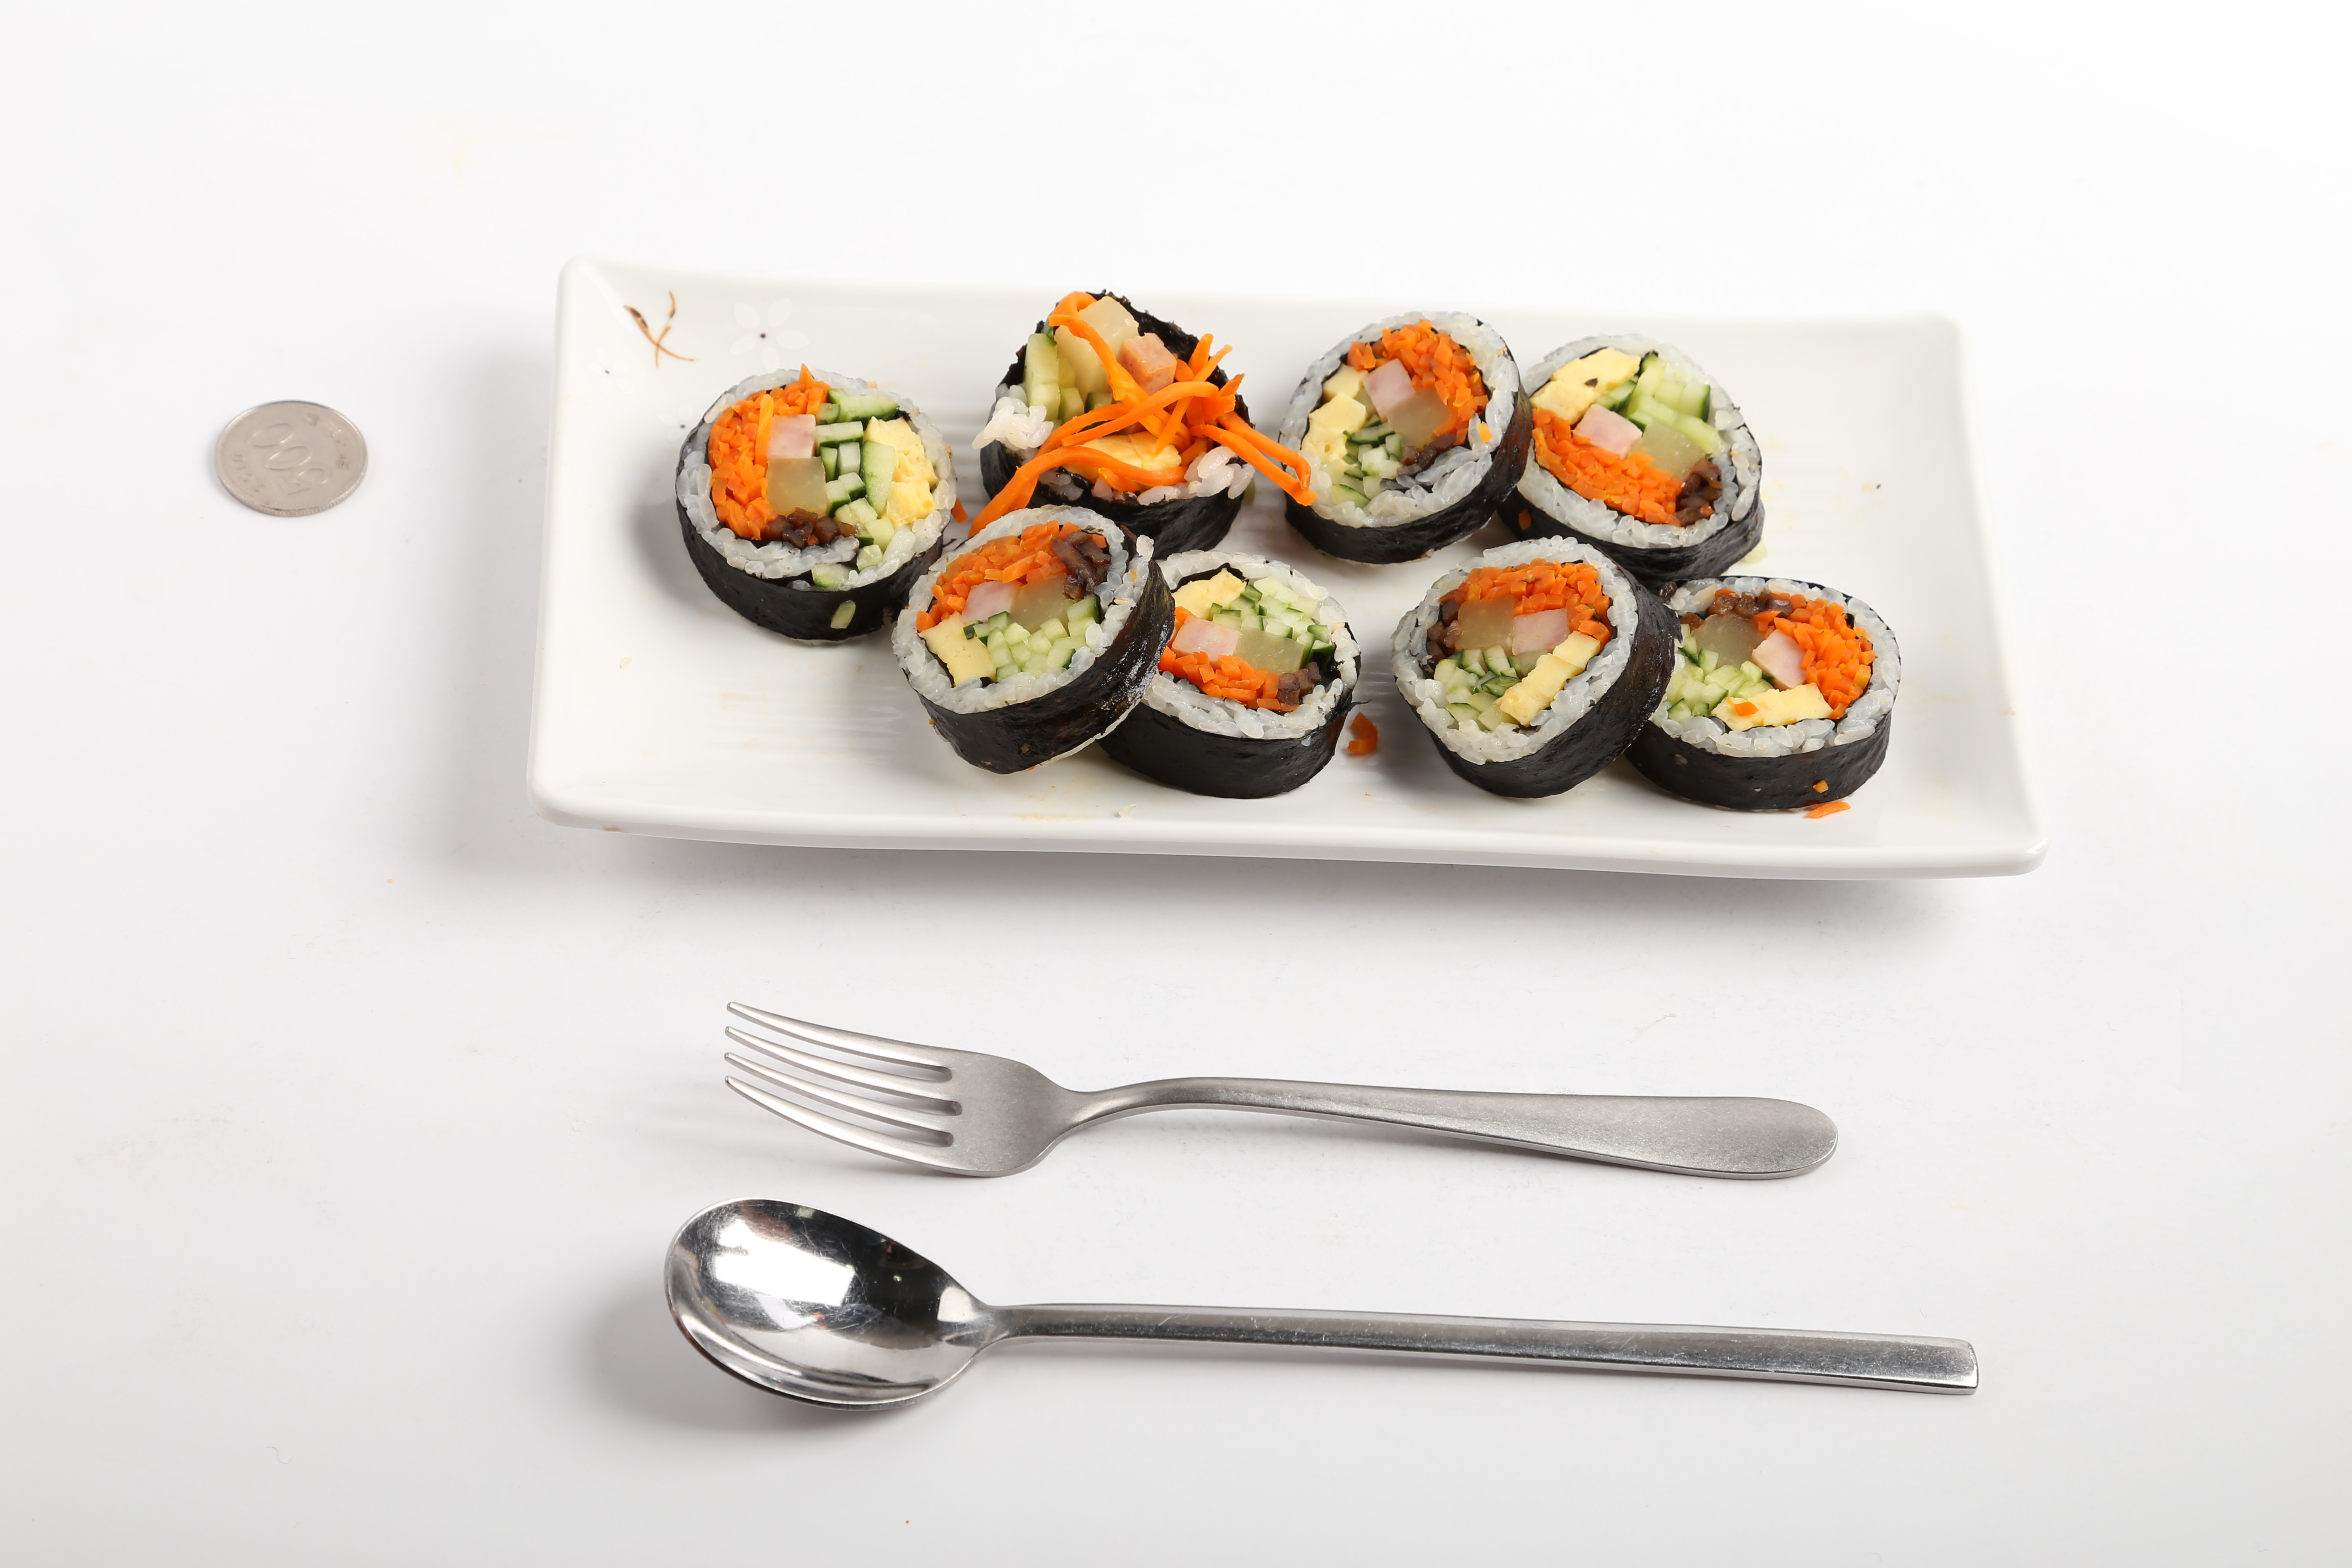dish: (521, 252, 2039, 891)
ref_coin: (203, 392, 371, 521)
ref_fork: (721, 990, 1132, 1181)
ref_spoon: (658, 1193, 1071, 1412)
김밥: (668, 283, 1902, 814)
